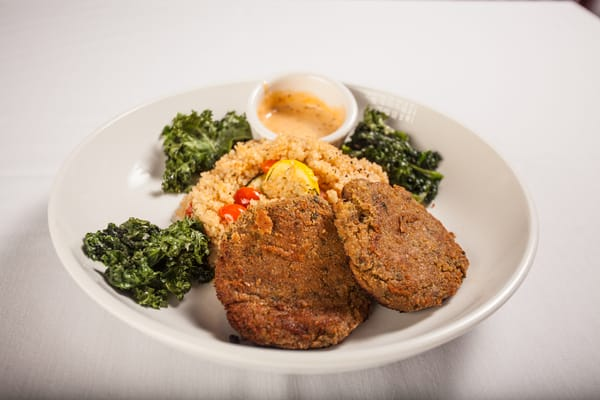curry: (81, 215, 214, 309), (341, 104, 445, 207), (159, 107, 252, 193)
sushi: (31, 74, 539, 381), (246, 71, 360, 147)
